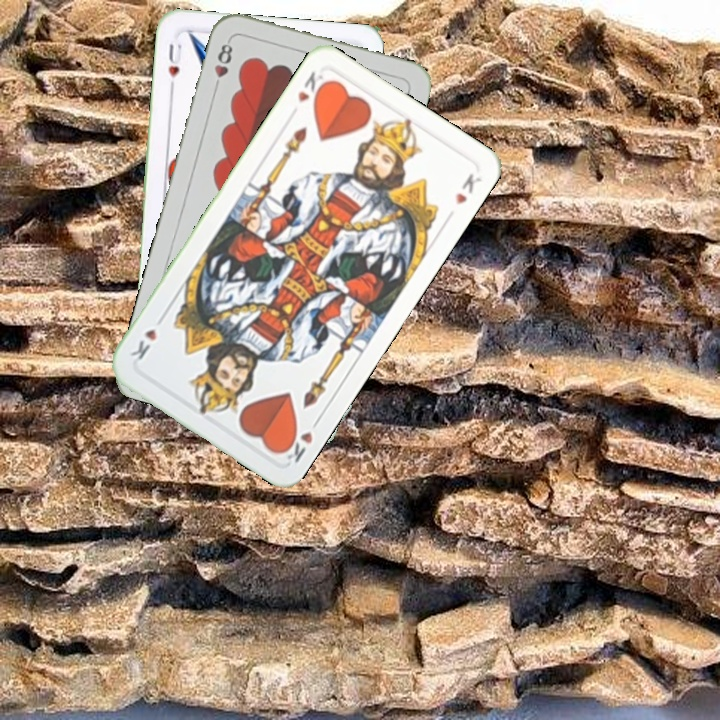H8: (210, 36, 235, 94)
HK: (277, 413, 323, 466), (293, 67, 326, 105)
HU: (164, 39, 185, 92)
